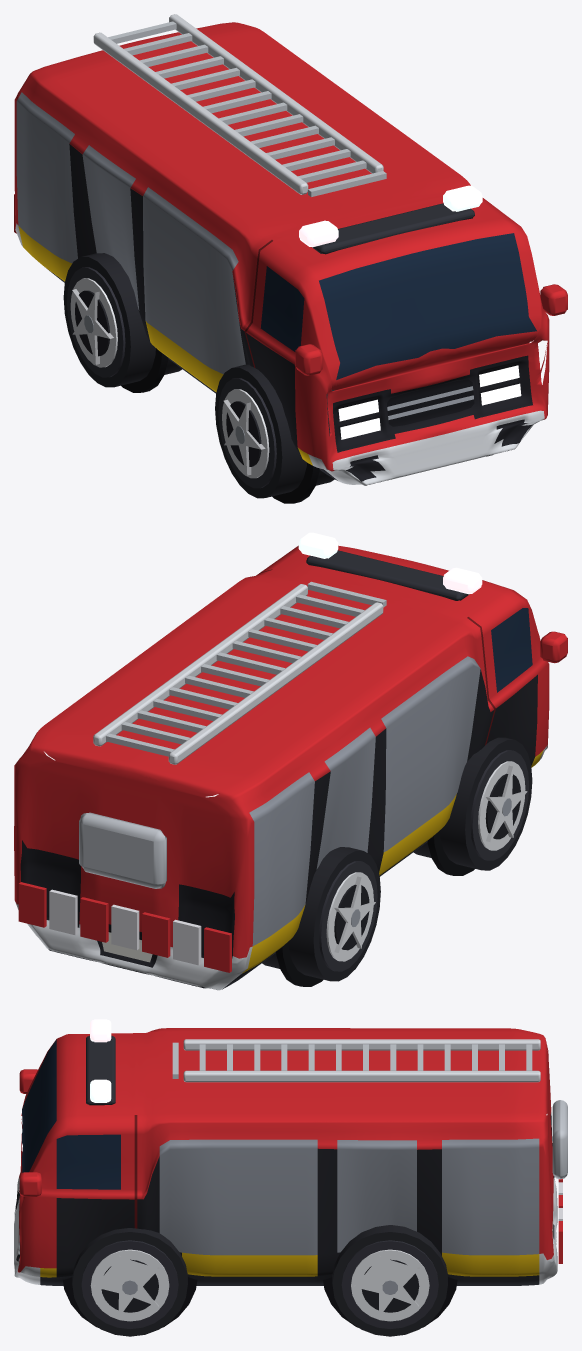
File: firetruck.glb
The picture shows the model from 3 angles, top to bottom: view 1: azimuth 30°, elevation 25°; view 2: azimuth 150°, elevation 25°; view 3: azimuth 270°, elevation 25°; orthographic projection. The views are drawn at different scales.
Visible parts, largest first — view 1: body, wheel_rl, wheel_fl; view 2: body, wheel_rl, wheel_fl; view 3: body, wheel_rr, wheel_fr.
Boxes of the visible parts, left/top/right/bottom form: body: left=14, top=14, right=567, bottom=503; wheel_rl: left=63, top=253, right=182, bottom=387; wheel_fl: left=215, top=364, right=334, bottom=498; body: left=14, top=532, right=567, bottom=990; wheel_rl: left=262, top=847, right=380, bottom=981; wheel_fl: left=413, top=737, right=532, bottom=870; body: left=14, top=1019, right=567, bottom=1327; wheel_rr: left=332, top=1225, right=447, bottom=1336; wheel_fr: left=72, top=1228, right=187, bottom=1336.
Size of the model in its own units: 1.95 by 1.94 by 4.07.
